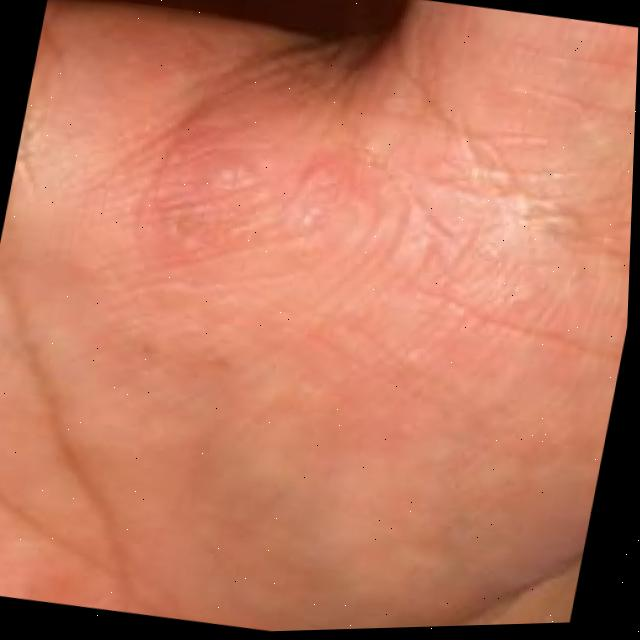Eczema: (103, 52, 416, 352)
